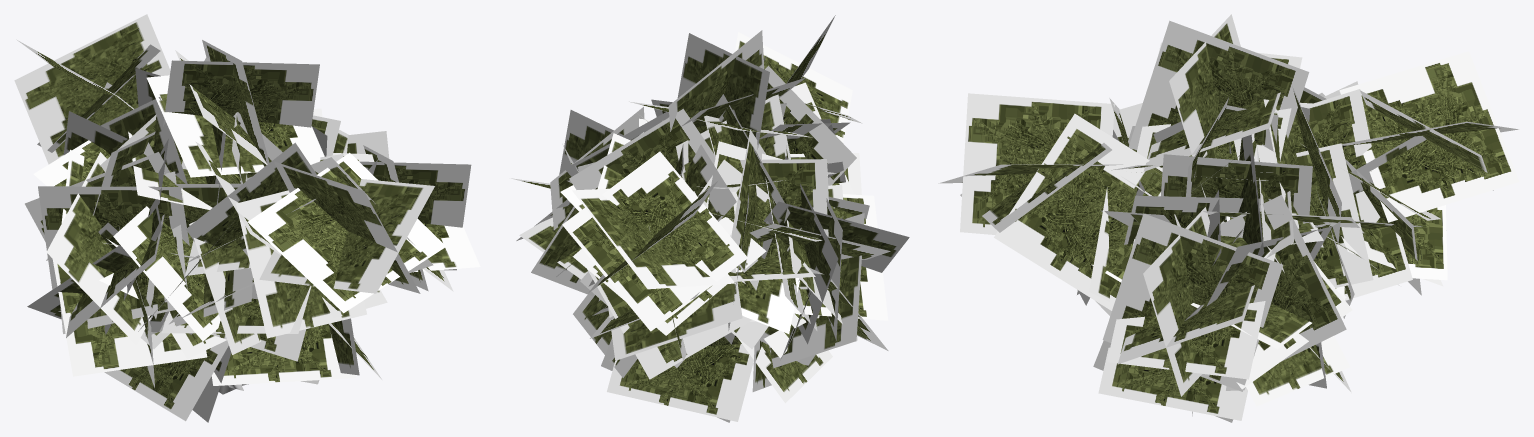
The model's file is Kust2LOD1.fbx.
3 renders of one model, left to right at view 1: azimuth 30°, elevation 25°; view 2: azimuth 150°, elevation 25°; view 3: azimuth 270°, elevation 25°, orthographic. The views are drawn at different scales.
Parts seen in each view (by area): view 1: Circle.003; view 2: Circle.003; view 3: Circle.003.
Part boxes in pixels (x1=…): Circle.003: x1=14, y1=14, x2=480, y2=422; Circle.003: x1=511, y1=15, x2=909, y2=422; Circle.003: x1=938, y1=14, x2=1519, y2=422.
Size of the model in its own units: 343 by 297 by 422.
